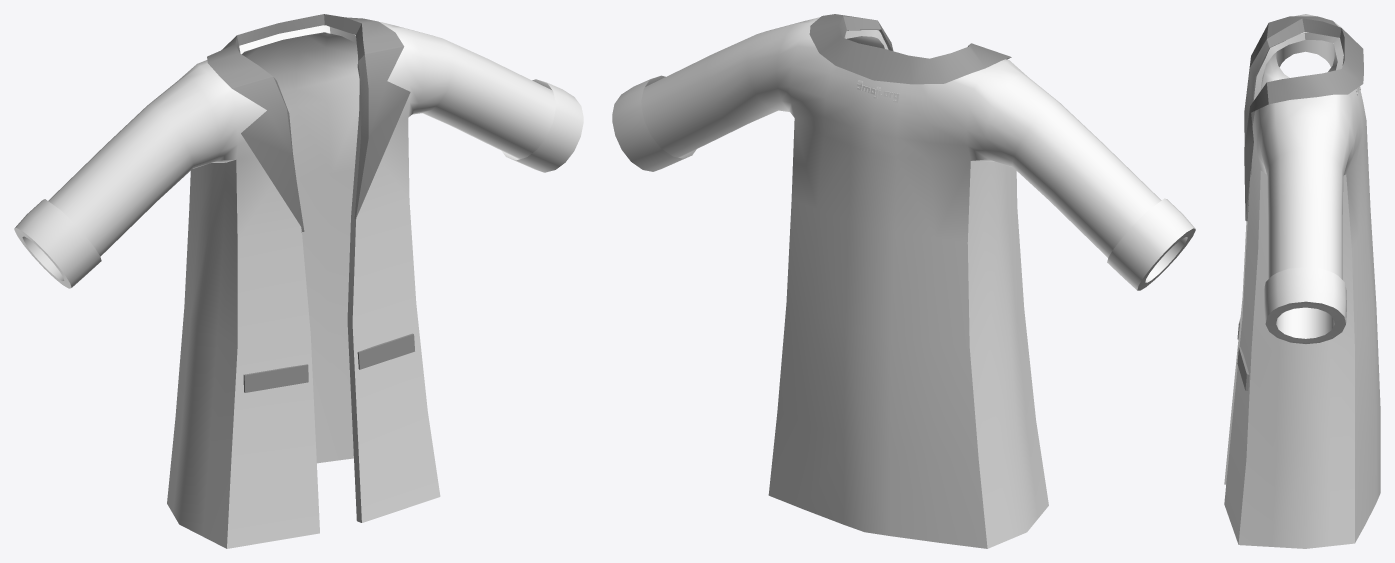
Rendered from lab_coat.fbx.
The picture shows the model from 3 angles, left to right: view 1: azimuth 30°, elevation 25°; view 2: azimuth 150°, elevation 25°; view 3: azimuth 270°, elevation 25°; orthographic projection. The views are drawn at different scales.
Parts seen in each view (by area): view 1: Circle.1783; view 2: Circle.1783; view 3: Circle.1783.
Boxes of the visible parts, left/top/right/bottom form: Circle.1783: left=14, top=14, right=583, bottom=548; Circle.1783: left=612, top=14, right=1195, bottom=548; Circle.1783: left=1224, top=14, right=1380, bottom=548.
Bounding box in the file's own units: 233 × 187 × 59.07.
1 material, 1 textured.
